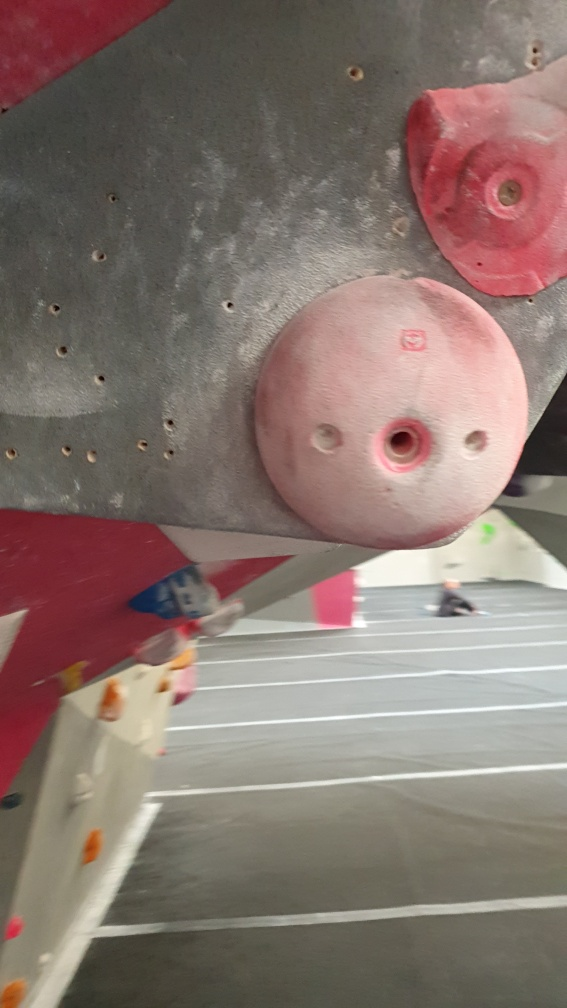Sloper: (259, 271, 532, 548)
